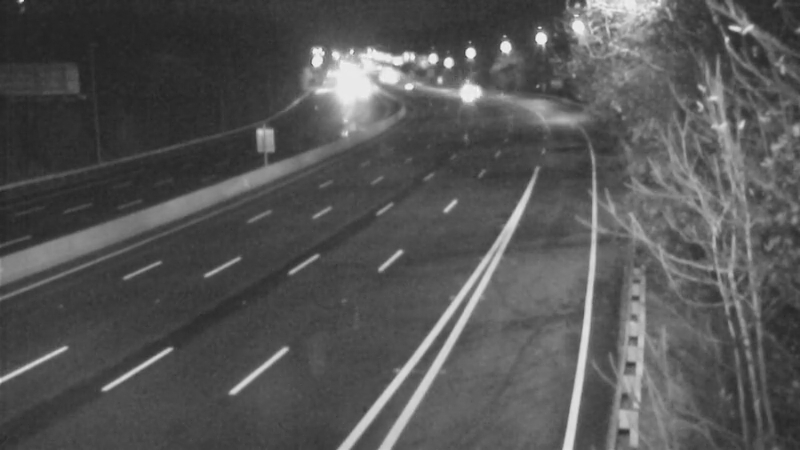vehicle: (382, 58, 432, 108), (448, 67, 498, 117)
